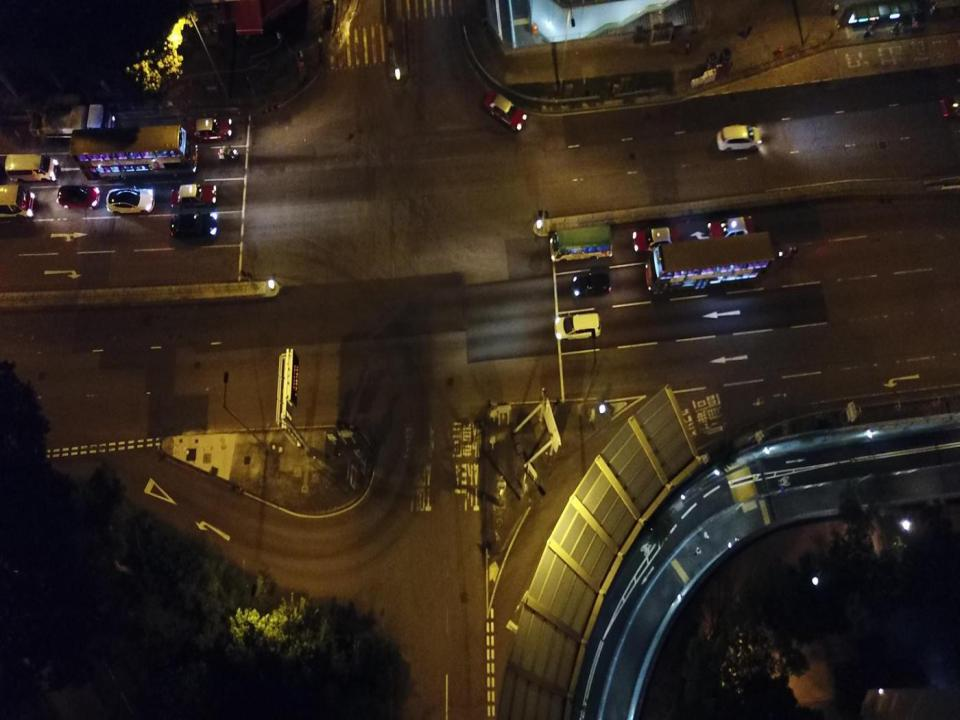bus: (645, 229, 776, 295), (70, 124, 198, 182), (548, 224, 612, 263)
car: (482, 88, 527, 132), (105, 185, 156, 216), (632, 224, 683, 254), (707, 215, 756, 246), (554, 312, 602, 342), (716, 124, 764, 154), (170, 212, 220, 240), (183, 115, 233, 142), (56, 183, 101, 210), (170, 183, 218, 208), (571, 269, 611, 298)
truck: (29, 104, 116, 140)
van: (3, 152, 61, 184), (0, 184, 36, 223)
